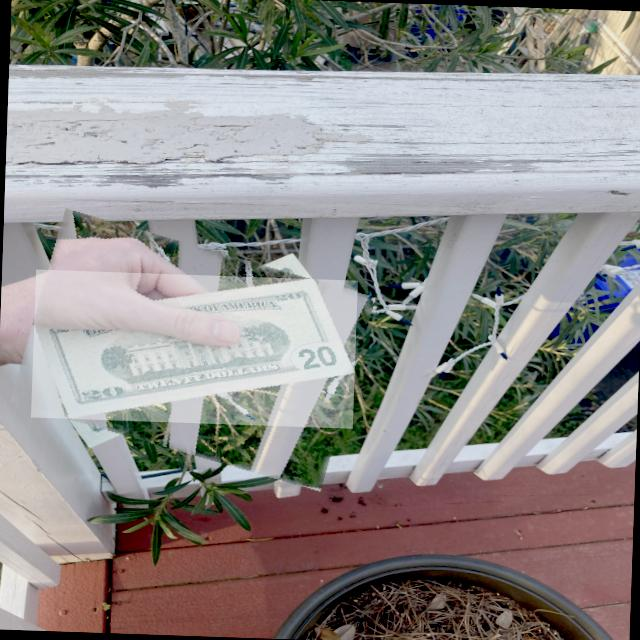twenty: (34, 271, 354, 422)
